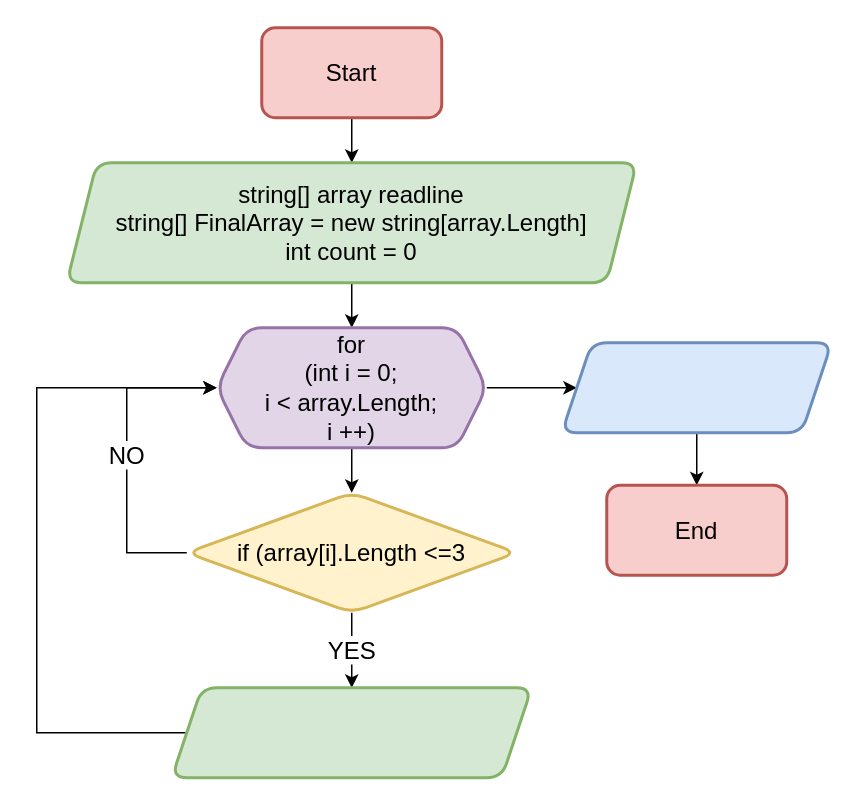
This 860x804 diagram has some shape labels left out. Here are the shapes that lost their labels. From the top down, the centre of each, then its label:
At [696,387]: "Print(FinalArray)".
At [351,732]: "FinalArray[count] = array[i]; count++".
